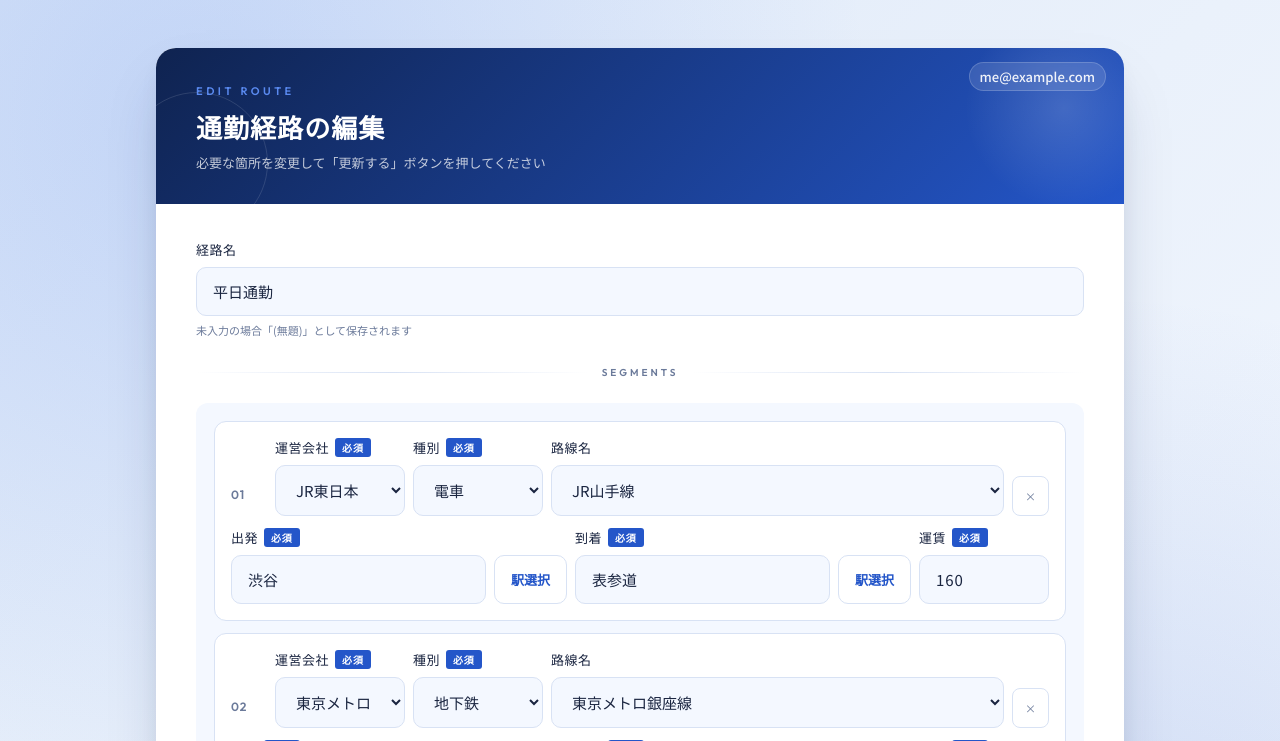
RouteEdit › 送信時 403 でエラーバナー
Step 1. Replace the text in the field labelled "経路名" with "x" → (640, 292), box top-left (196, 267), bottom-right (1084, 316)
(page scrolled)
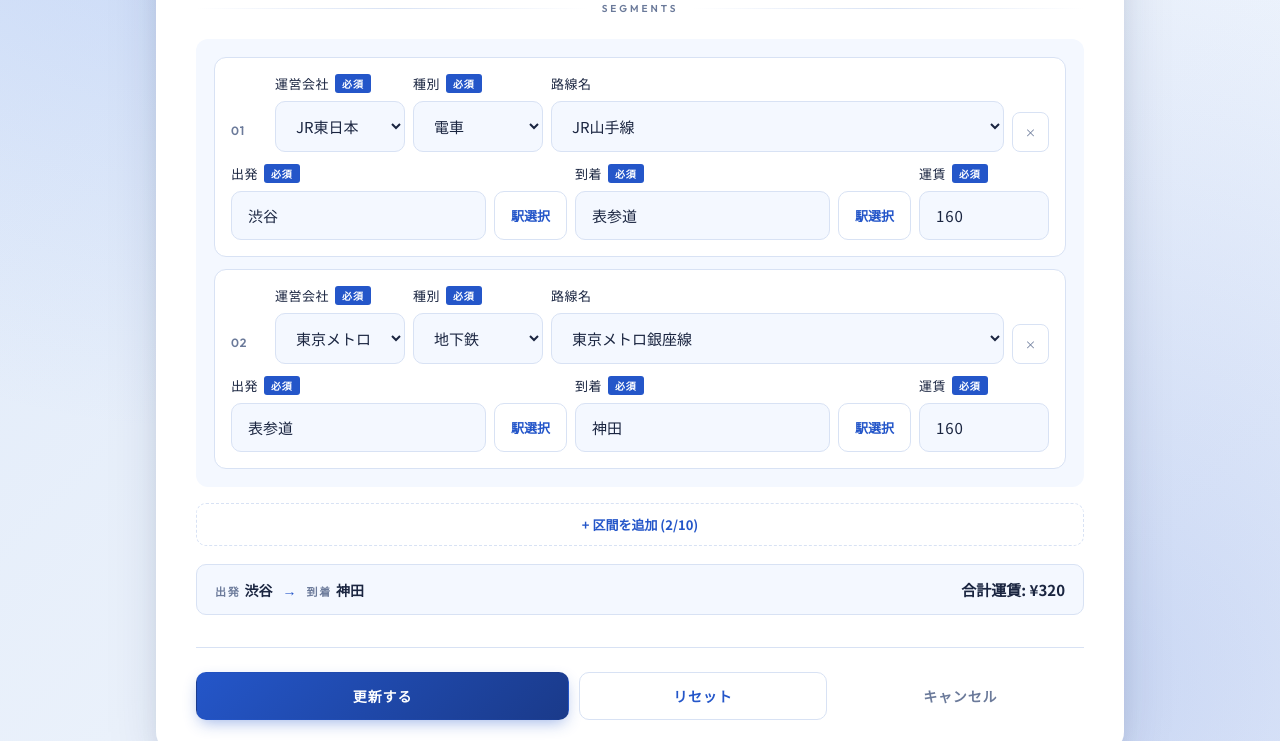
Step 2. Click the button "更新する" → (383, 696), box top-left (196, 672), bottom-right (569, 720)
(page scrolled)
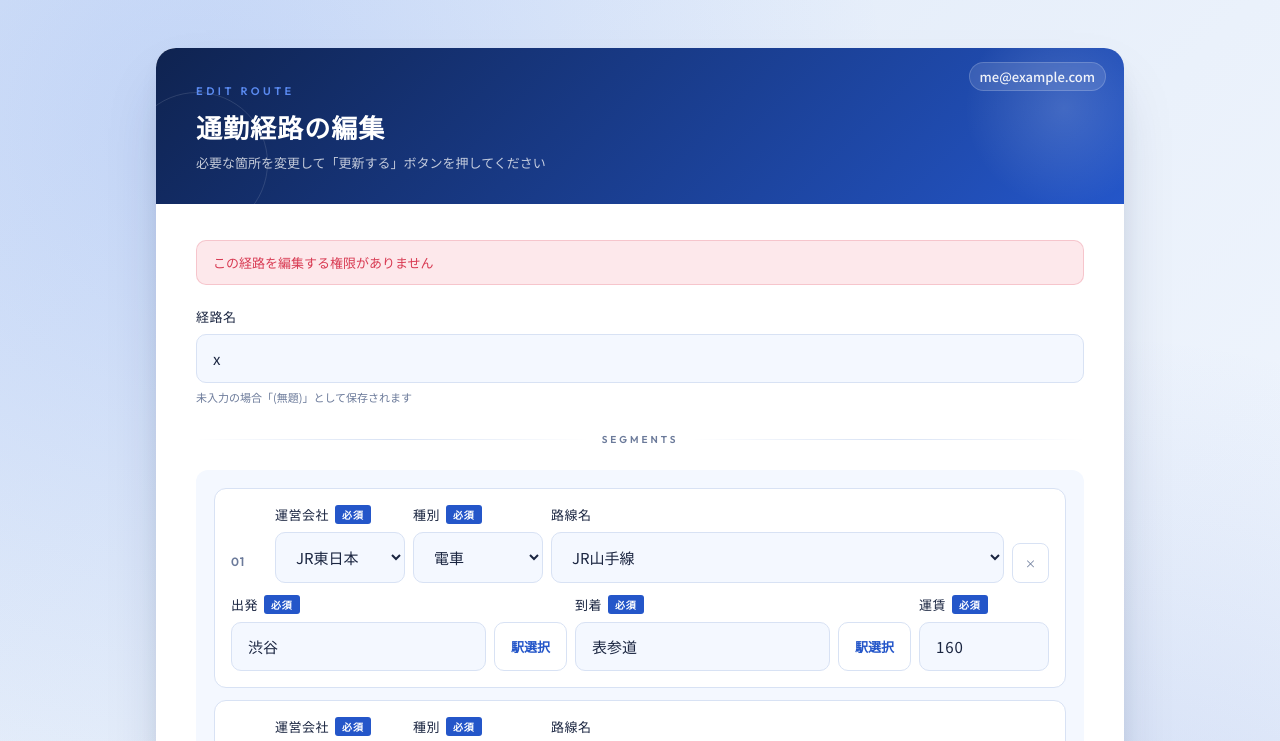
Expected: the text "この経路を編集する権限がありません" is shown, top-left (196, 240), bottom-right (1084, 285)
